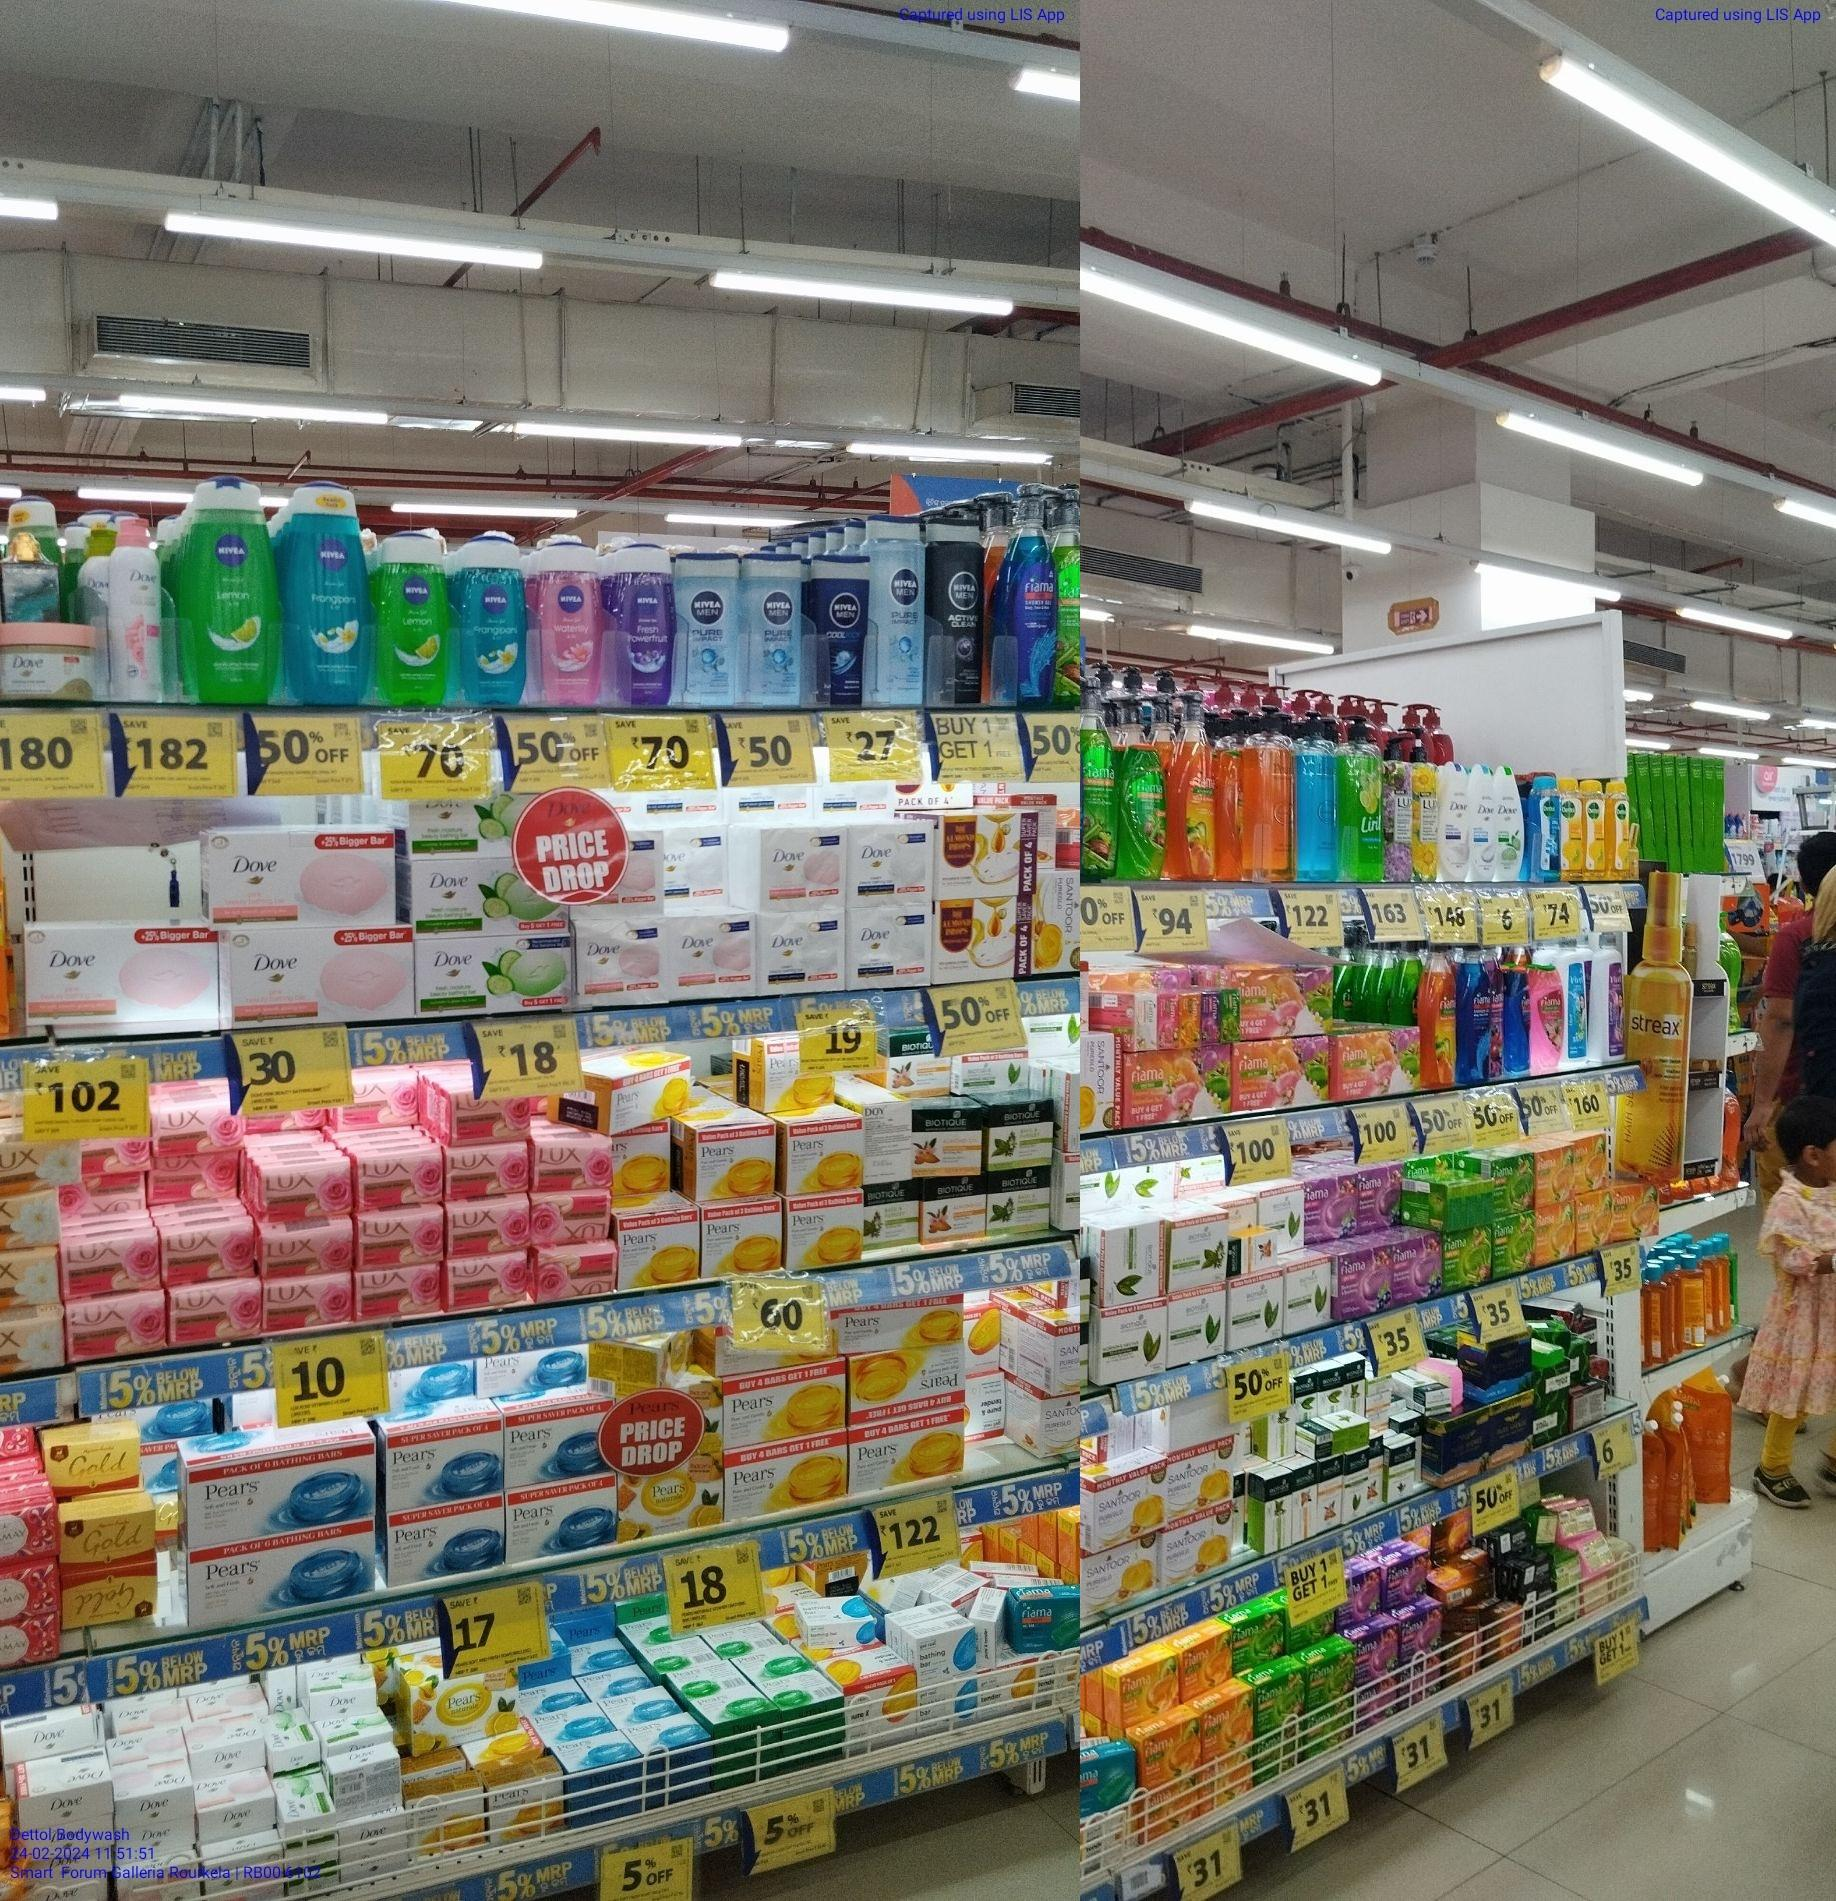Dettol_Bodywash_Cool: (1531, 774, 1561, 884)
Dettol_Bodywash_Refresh: (1563, 777, 1585, 883), (1607, 782, 1629, 879), (1585, 781, 1604, 879)
Dove_Deep_Moisture_Body_Wash_250ML: (1436, 762, 1466, 881)
Dove_Gentle_Exfoliating_Body_Wash_250ML: (1468, 764, 1497, 883)
Dove_Refreshing_Body_Wash_250ML: (1500, 764, 1525, 883)
Fiama_Shower_Gel_Lemongrass_and_Jojoba_250ML: (1118, 742, 1167, 881)
Nivea_Shower_Gel_Frangipani_and_Oil_250ML: (283, 479, 373, 708), (453, 535, 529, 706)
Nivea_Shower_Gel_Fresh_Powerfruit_250ML: (611, 541, 680, 706)
Nivea_Shower_Gel_Lemon_and_Oil_250ML: (175, 472, 282, 708), (375, 535, 456, 708)
Nivea_Shower_Gel_Waterlily_and_Oil_250ML: (531, 536, 607, 708)
